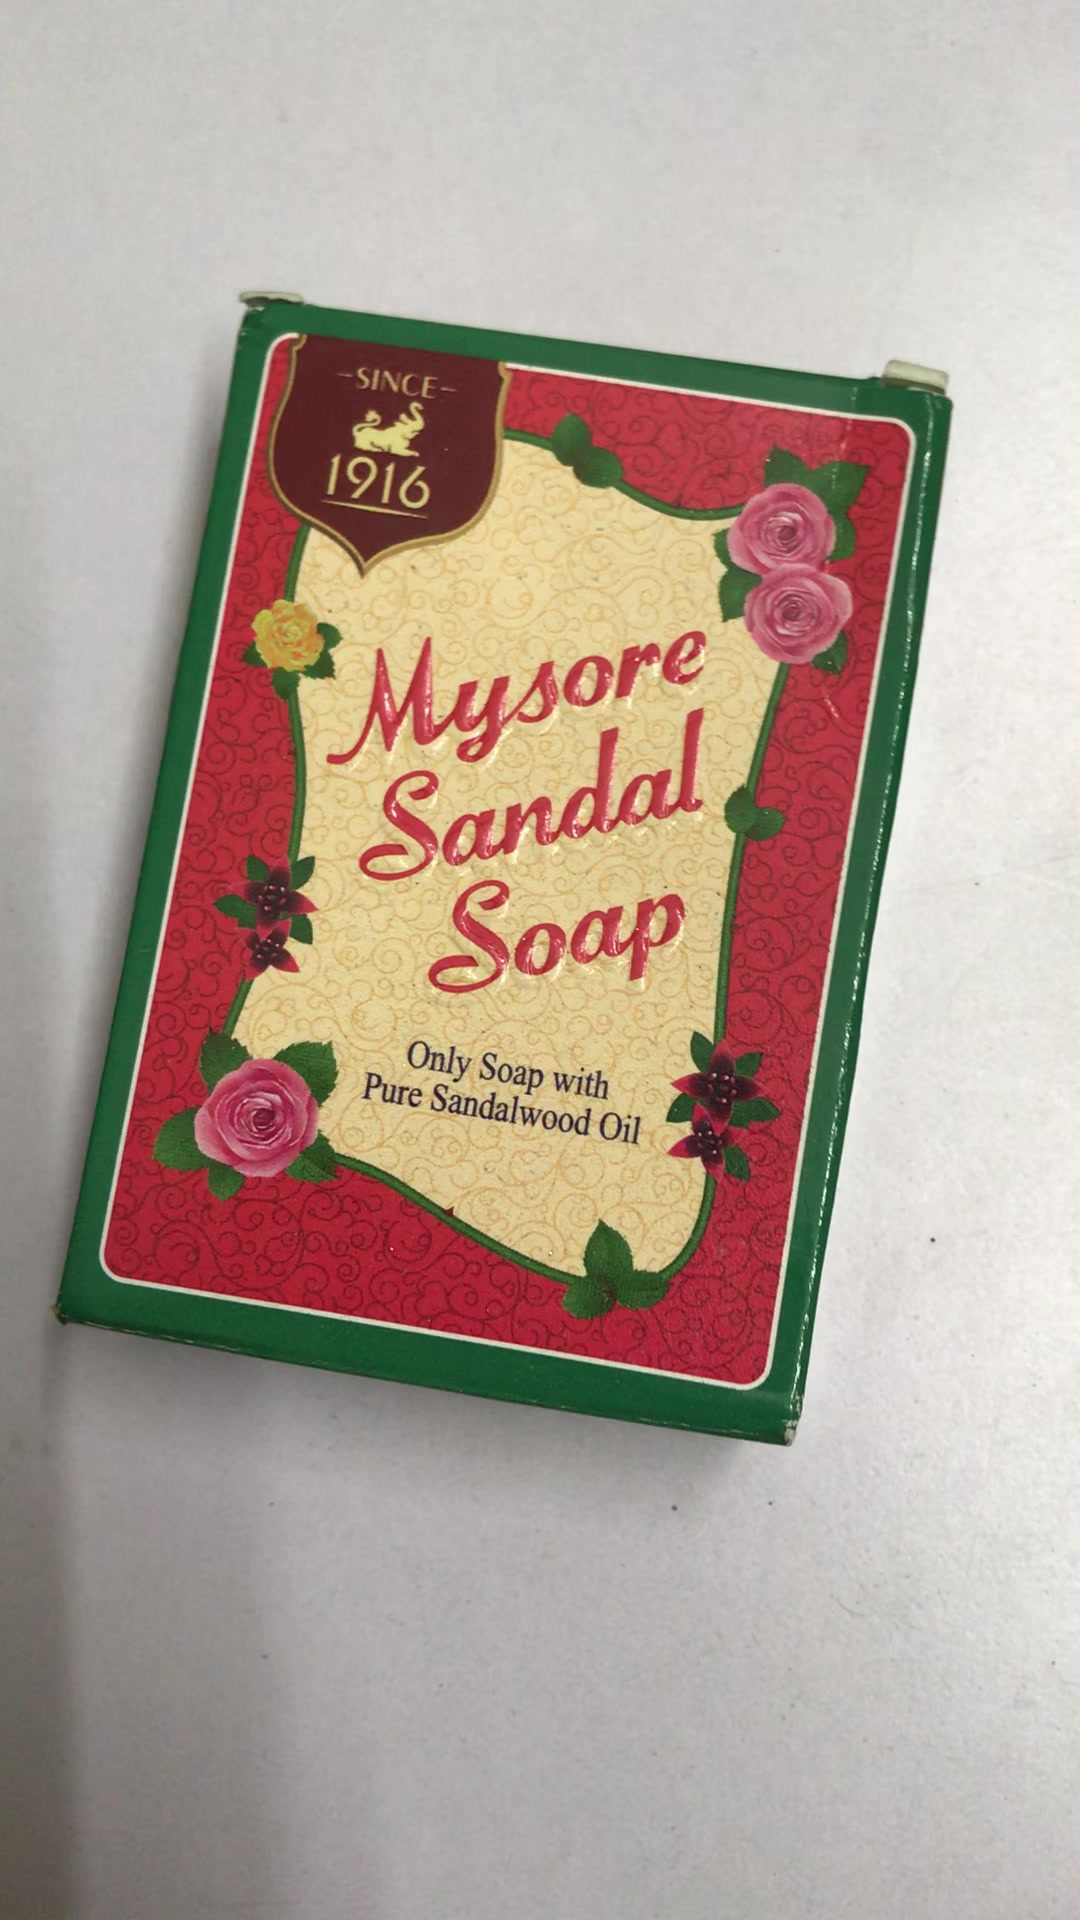mysore sandal soap: (65, 295, 957, 1437)
